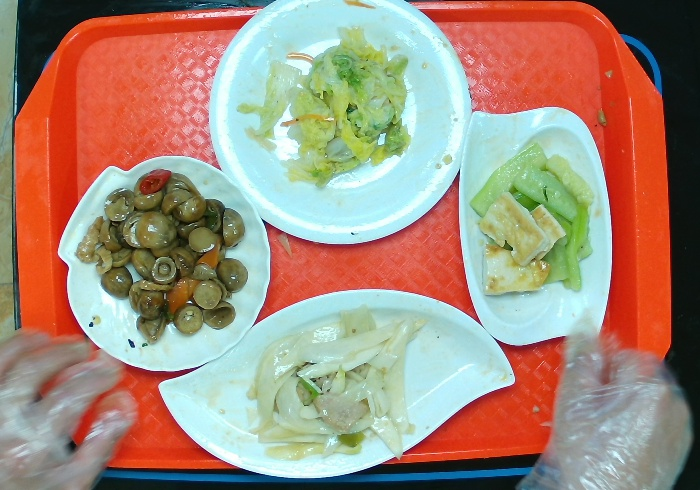RJxy-Bei_Ke_Wan: (54, 152, 274, 376)
RJxy-Jian_Jiao_Fang_Die: (455, 102, 616, 351)
RJxy-Jian_Jiao_Pan: (154, 285, 518, 482)
RJxy-Yuan_Pan: (205, 1, 476, 248)
